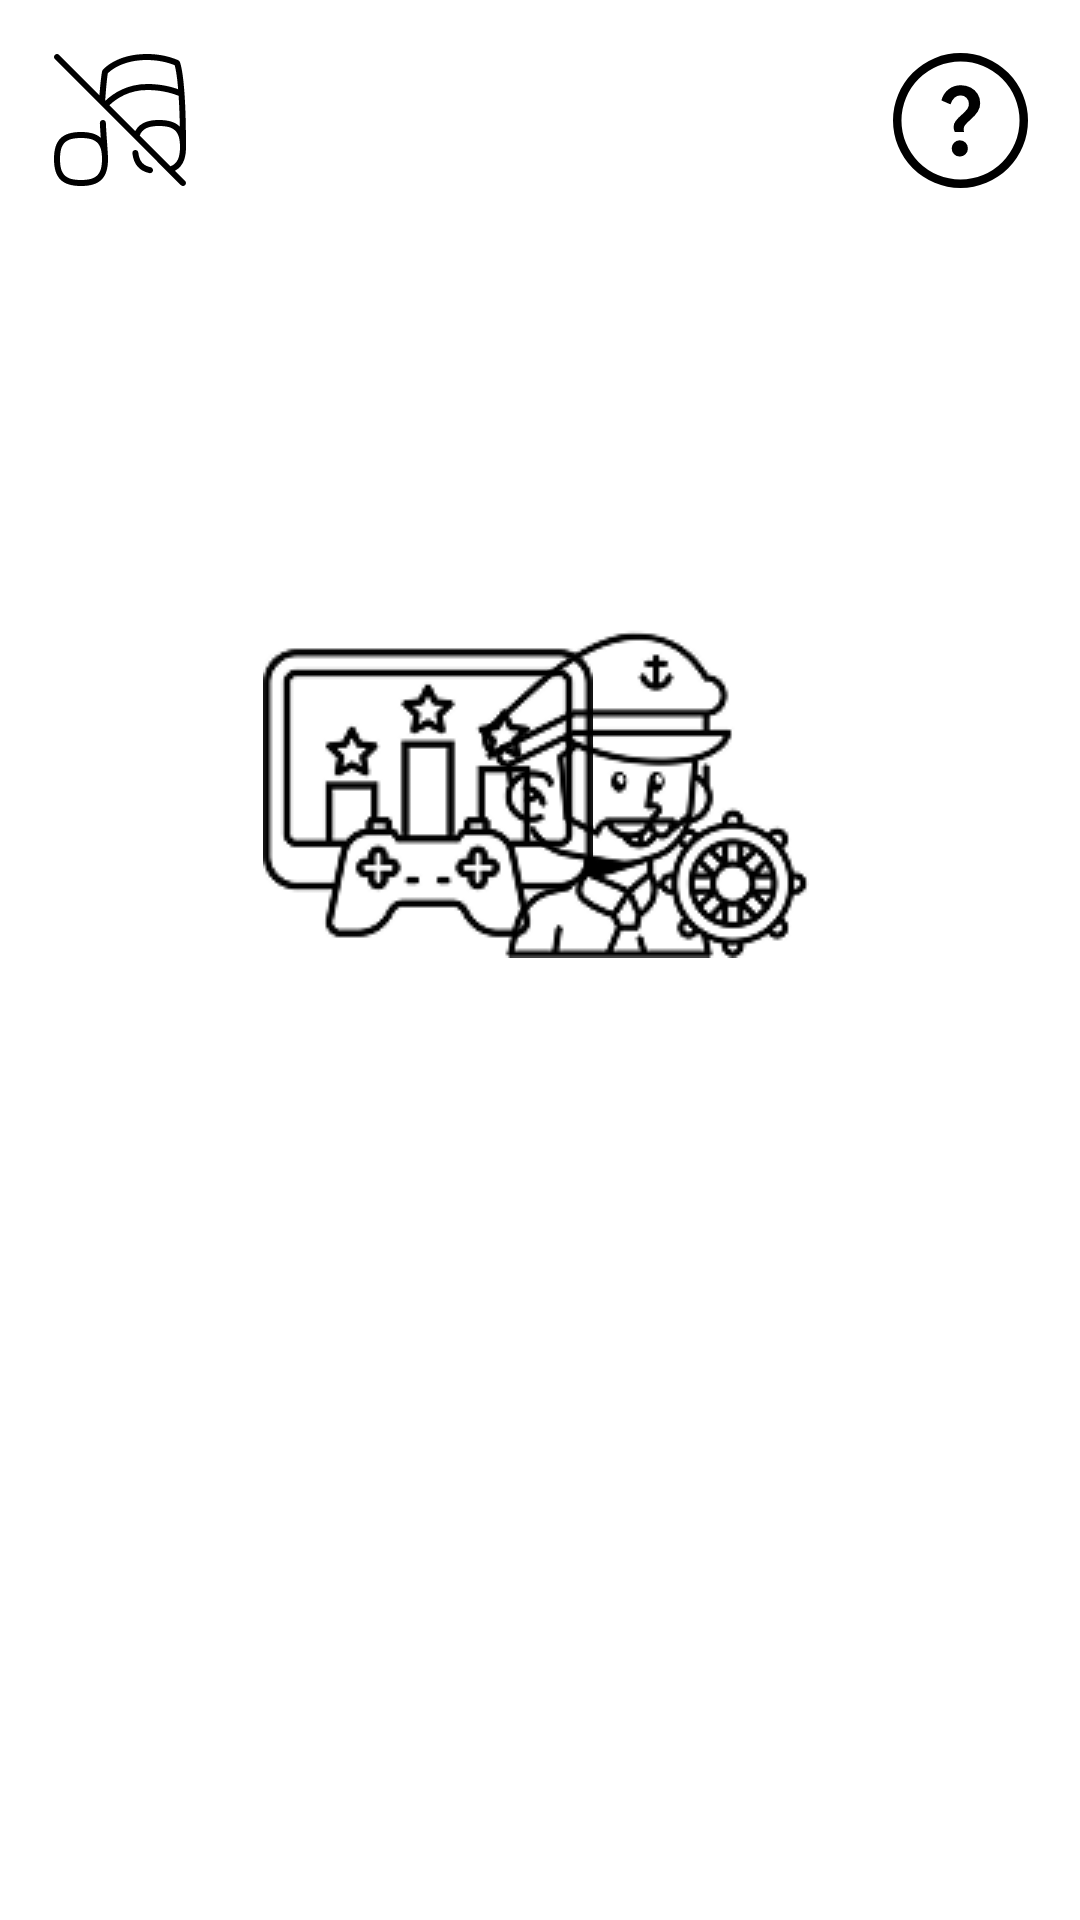

Screen size 1080x1920. Icon name, then its box in pixels as [x1,y1,x2,y2]:
Музыка: [54,54,186,186]
Справка: [893,53,1028,188]
